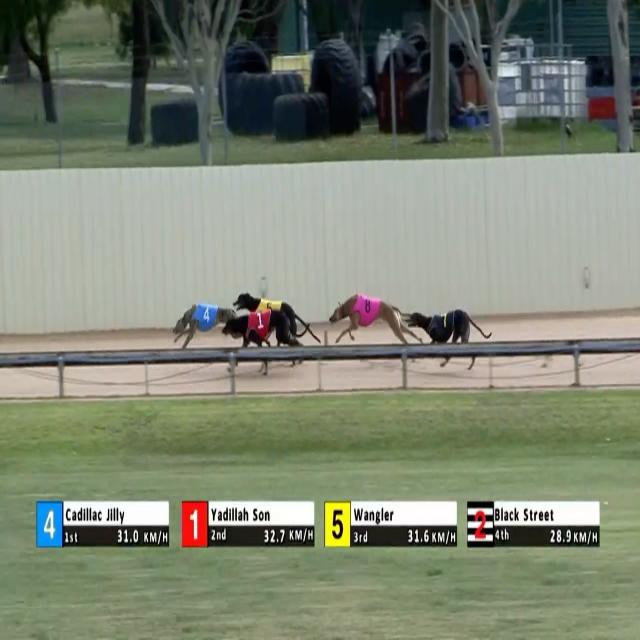dog_eight: (353, 292, 377, 326)
dog_five: (253, 296, 287, 316)
dog_four: (192, 302, 219, 332)
dog_one: (244, 310, 275, 341)
dog_seven: (431, 308, 455, 341)
